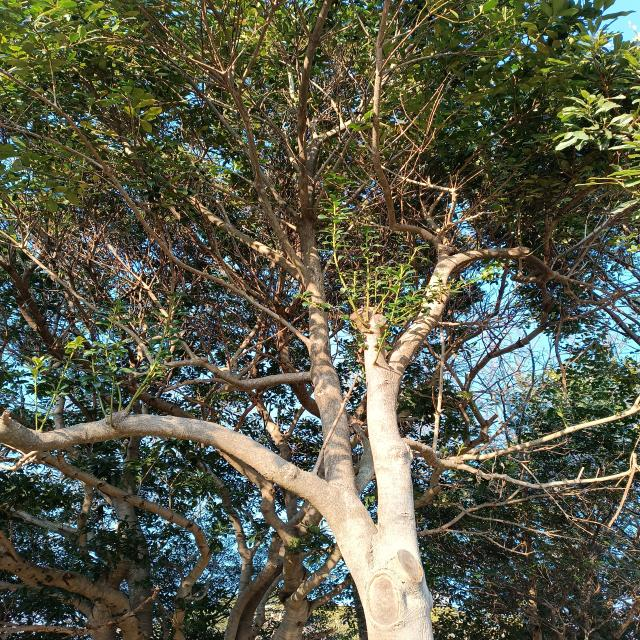Branch: (0, 409, 378, 550), (105, 110, 302, 284), (201, 0, 306, 276), (298, 220, 357, 489), (35, 323, 196, 419), (365, 306, 420, 551), (384, 255, 457, 375), (298, 0, 331, 218), (159, 357, 310, 391), (452, 246, 556, 284)
Twig: (0, 67, 310, 351), (0, 230, 159, 366), (373, 0, 448, 261), (429, 97, 518, 213), (0, 123, 108, 172), (381, 165, 457, 232), (200, 180, 297, 230), (422, 201, 457, 254), (453, 211, 509, 224)
